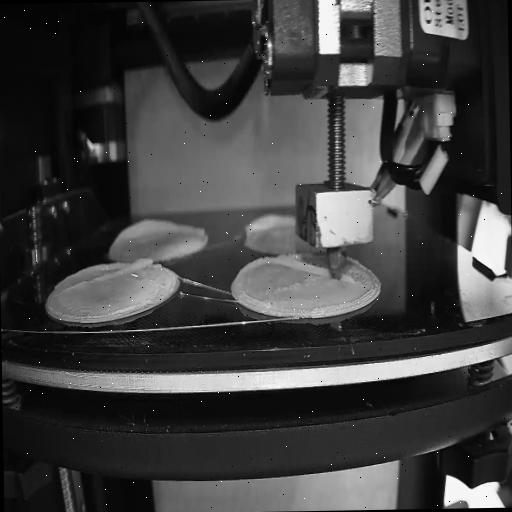over_extrusion: (62, 254, 154, 293), (110, 214, 206, 250), (244, 211, 298, 241), (271, 254, 329, 280), (341, 274, 355, 284)
